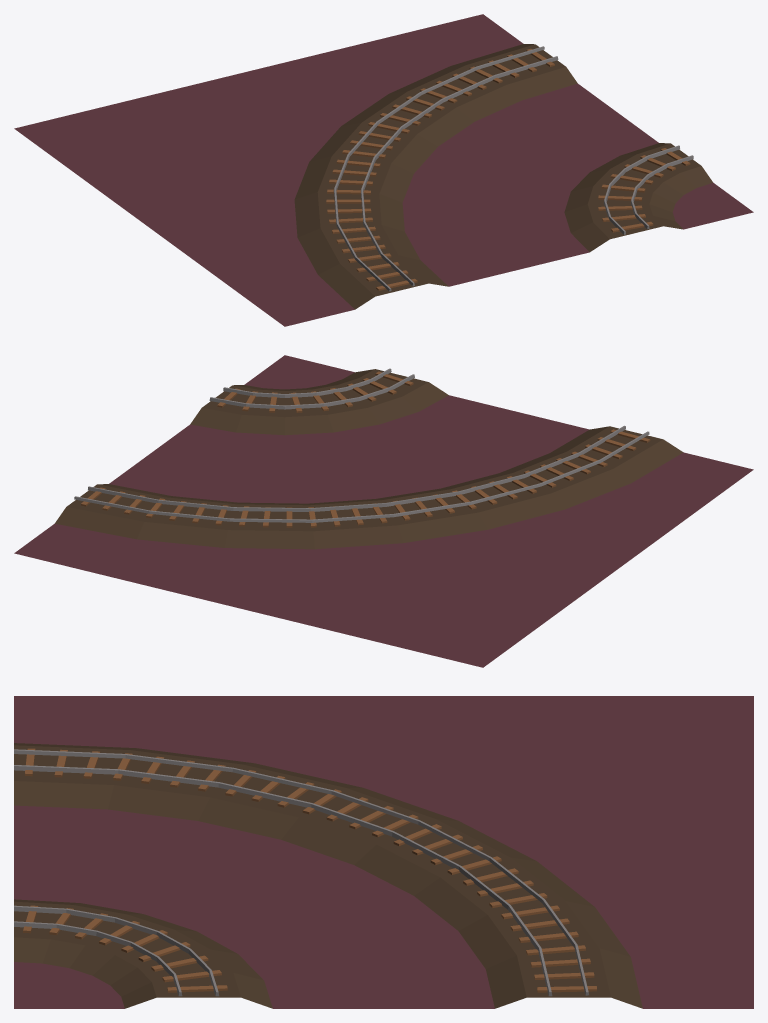
The model's file is tiles-nb-tile-rail-curve-double-nb.glb.
3 views of the same model, one above another, from view 1: azimuth 30°, elevation 25°; view 2: azimuth 150°, elevation 25°; view 3: azimuth 270°, elevation 25° (orthographic). The views are drawn at different scales.
Visible parts, largest first — view 1: tile-rail-curve-double-nb; view 2: tile-rail-curve-double-nb; view 3: tile-rail-curve-double-nb.
Part boxes in pixels (x1,y1,x2,y2): tile-rail-curve-double-nb: [14, 14, 753, 326]; tile-rail-curve-double-nb: [14, 355, 753, 667]; tile-rail-curve-double-nb: [14, 696, 753, 1008].
Size of the model in its own units: 30 by 0.749 by 30.
